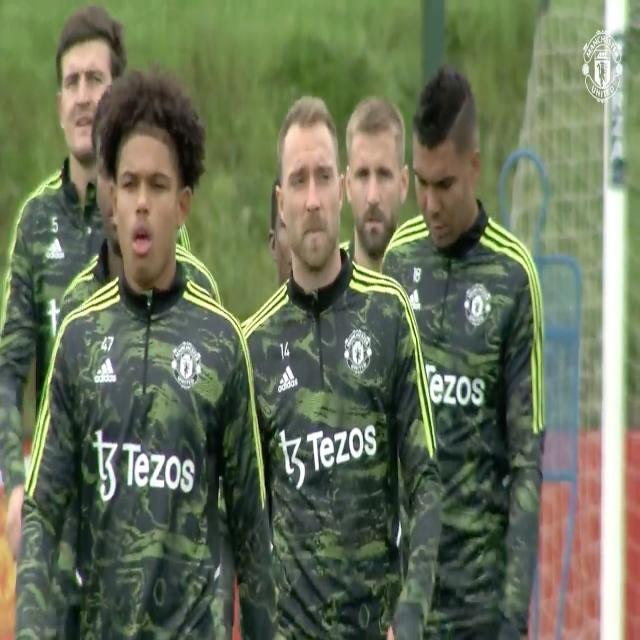Adidas: (277, 363, 299, 394), (44, 235, 66, 260), (408, 287, 422, 310)
